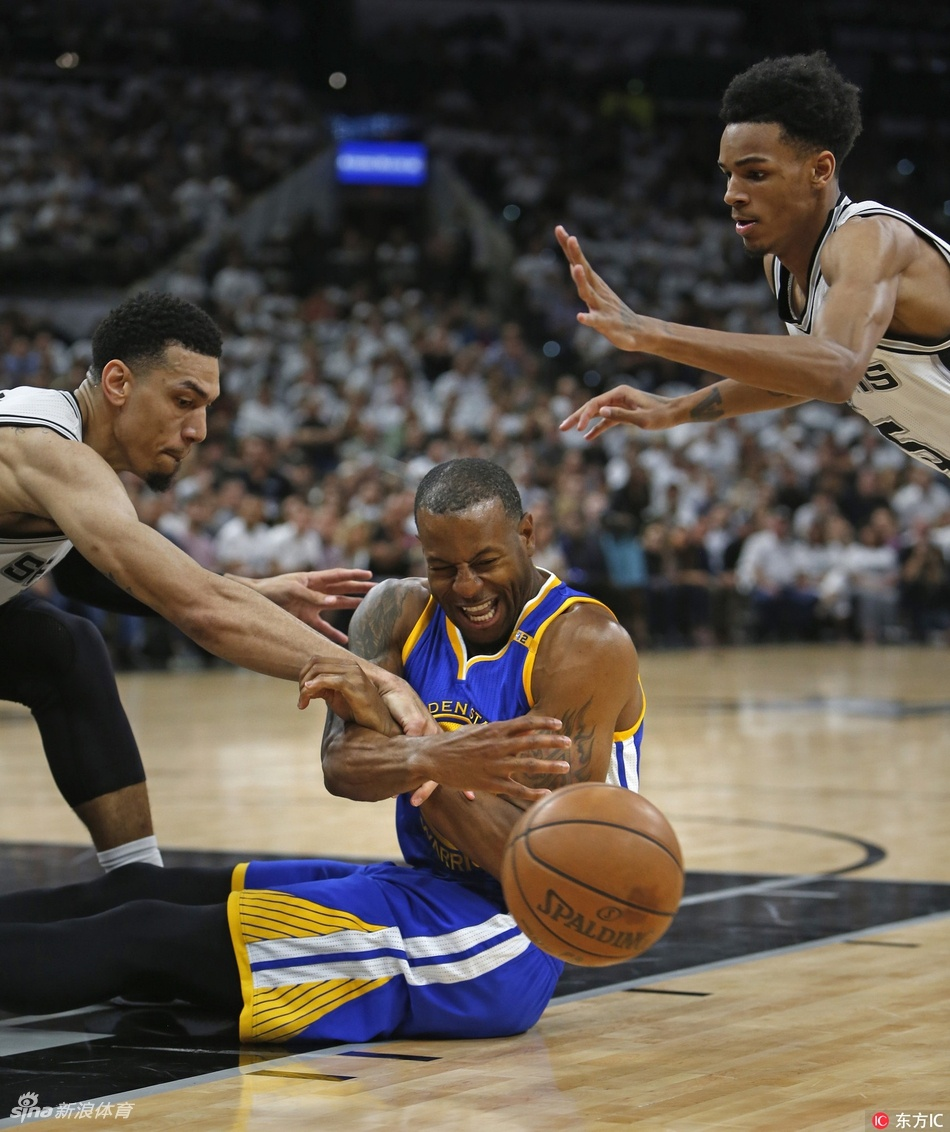falling: (4, 402, 658, 1091)
